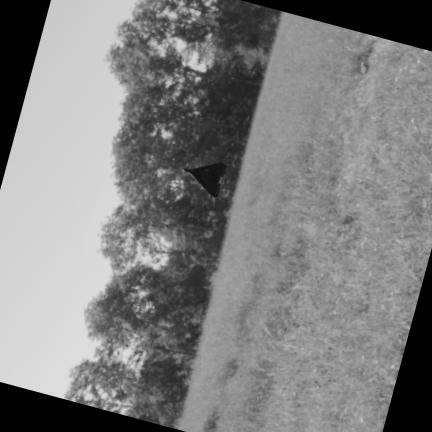Shahed: (183, 161, 226, 195)
